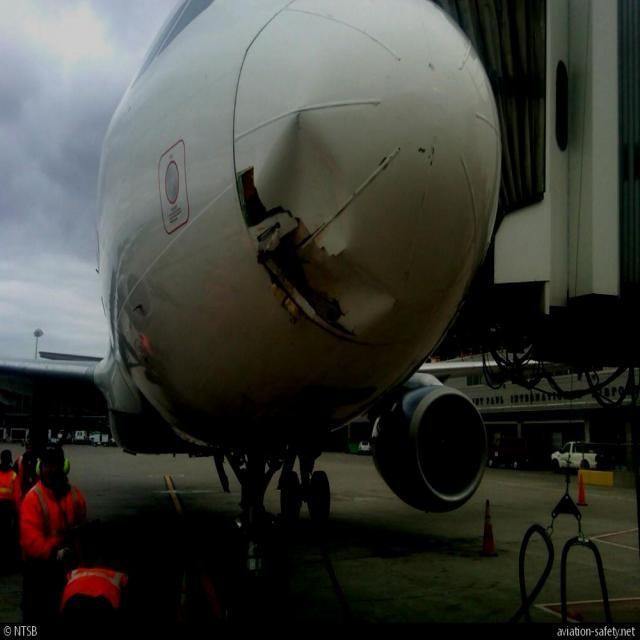dent: (259, 110, 350, 256), (337, 263, 399, 325)
